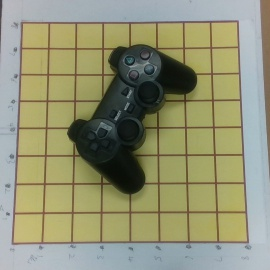remote: (66, 46, 196, 194)
